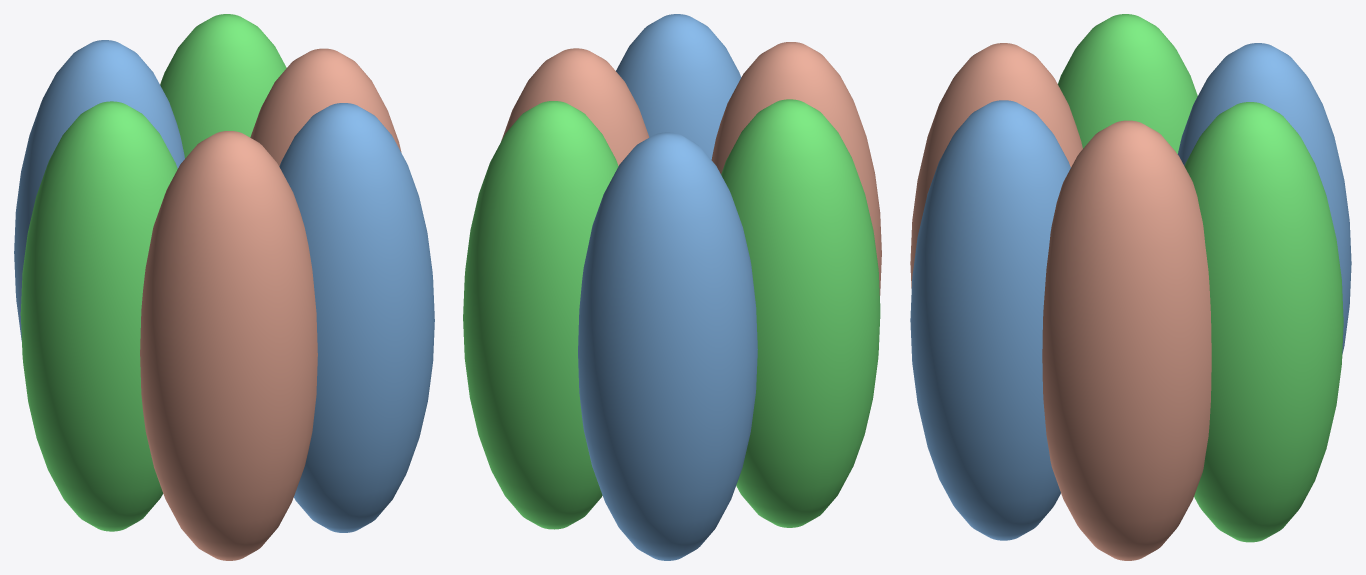
Rendered from balloon.fbx.
3 renders of one model, left to right at view 1: azimuth 30°, elevation 25°; view 2: azimuth 150°, elevation 25°; view 3: azimuth 270°, elevation 25°, orthographic. The views are drawn at different scales.
Visible parts, largest first — view 1: 球体.001; view 2: 球体.001; view 3: 球体.001.
Part boxes in pixels (<box>): 球体.001: <box>14,14,434,560</box>; 球体.001: <box>463,14,881,560</box>; 球体.001: <box>910,14,1351,560</box>.
Size of the model in its own units: 139 by 152 by 140.
